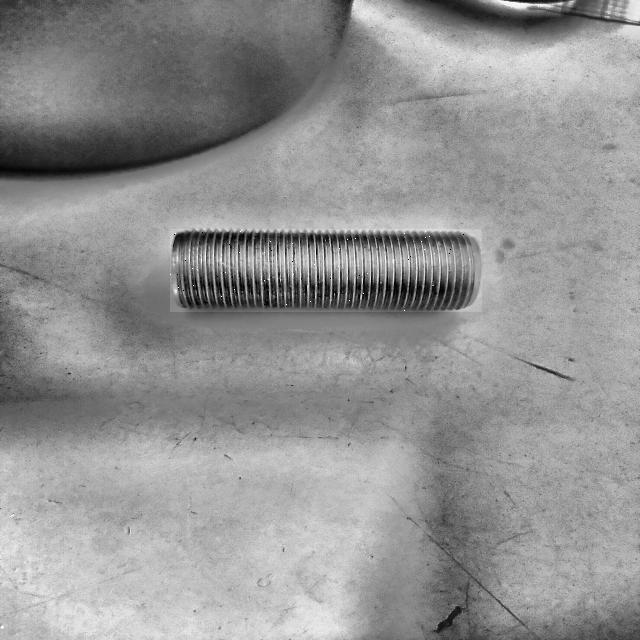Normal: (170, 229, 482, 312)
